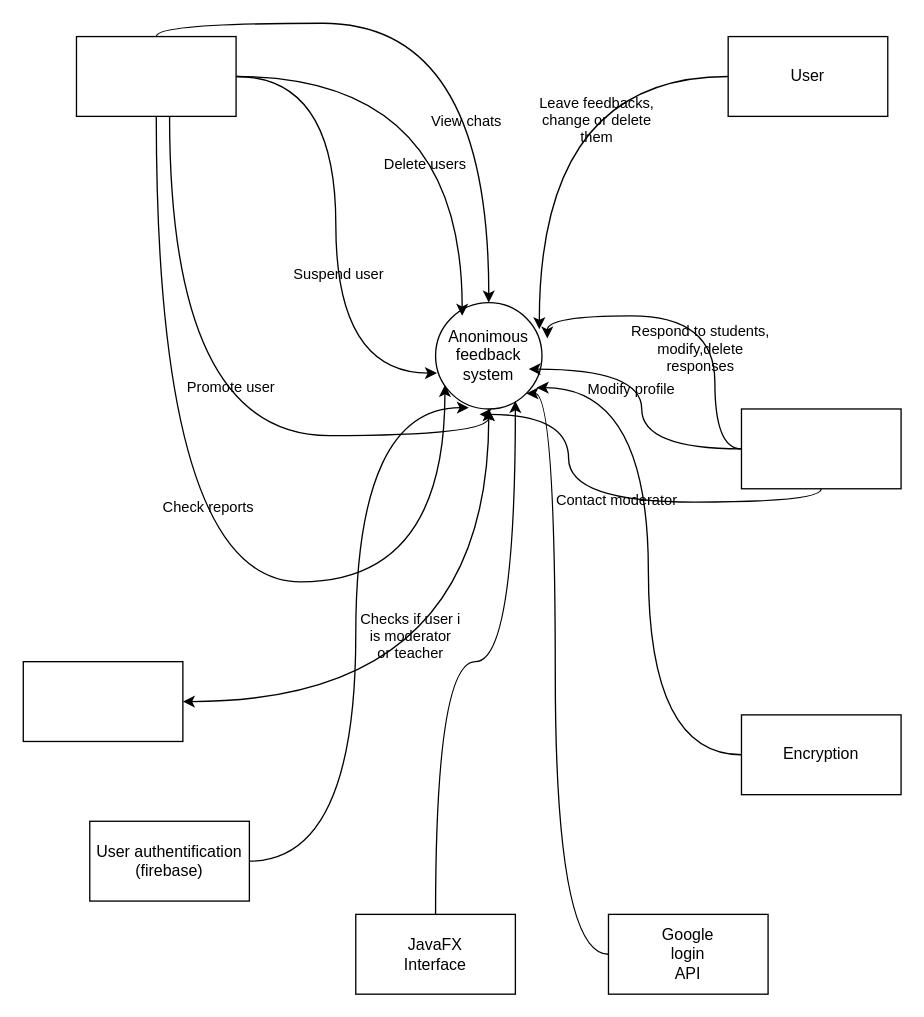
Image size: 924x1017. Some labels were removed from this diagram. Here are the shapes that lost their labels. From the top down, the box of each, then its label:
(75, 35, 236, 116): Moderator
(740, 408, 901, 489): Teacher
(22, 660, 183, 741): Employee/students
